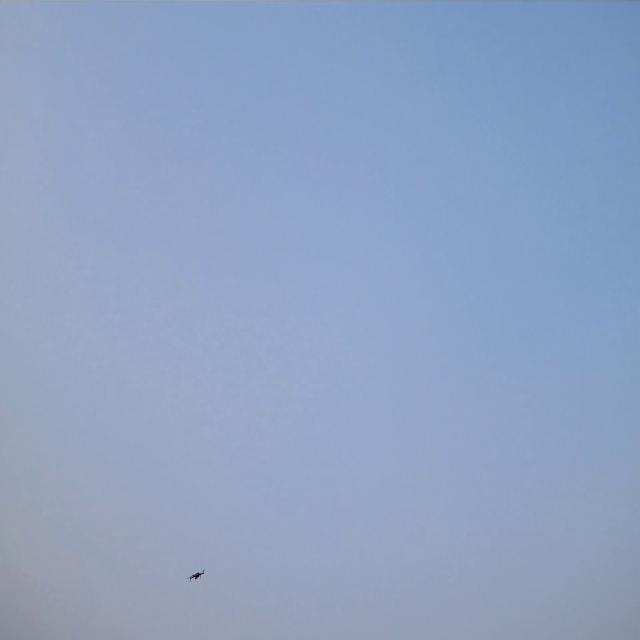UAV: (187, 569, 204, 582)
